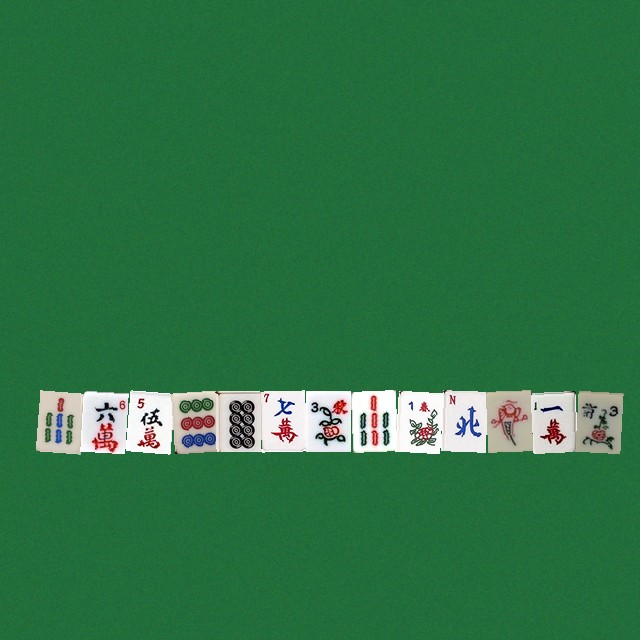tile: (35, 390, 80, 451), (80, 390, 125, 451), (125, 390, 170, 451), (170, 390, 215, 451), (215, 390, 260, 451), (260, 390, 305, 451), (305, 390, 350, 451), (350, 390, 395, 451), (395, 390, 440, 451), (440, 390, 485, 451), (485, 390, 530, 451), (530, 390, 575, 451), (575, 390, 620, 451)
